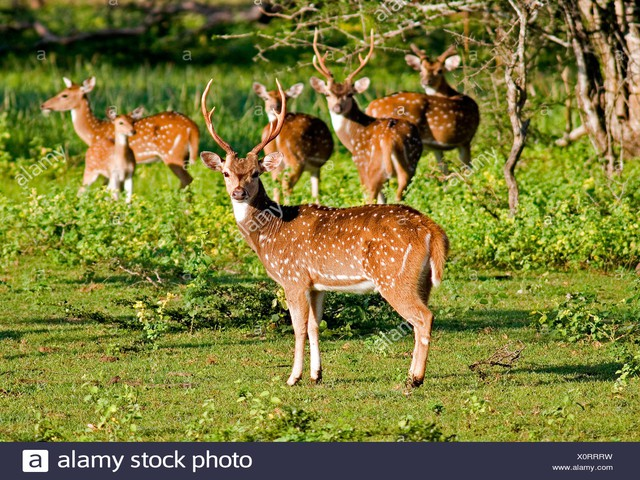deer: (196, 144, 456, 385), (306, 50, 423, 199), (419, 40, 492, 157), (74, 102, 144, 206), (251, 85, 334, 152), (39, 75, 91, 118)
